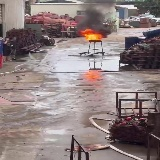fire: (78, 29, 104, 40)
